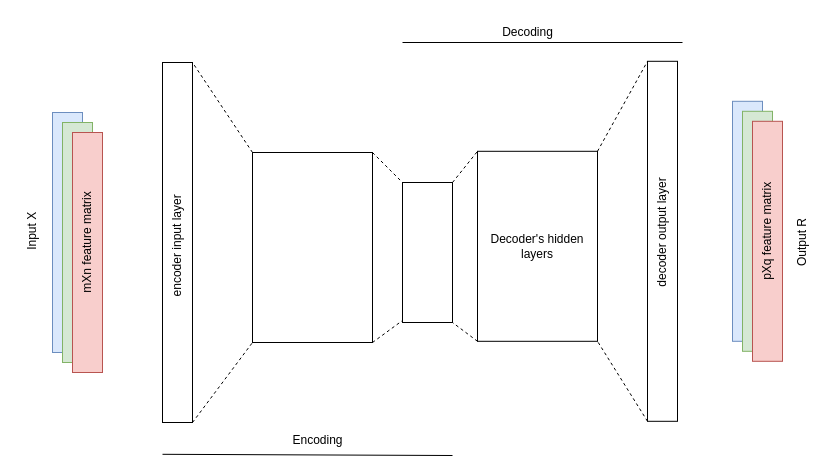
This 834x474 diagram has some shape labels left out. The shapes that lost their labels are listed below. From the top down, each one's centre as x and y in pixels, then its label:
At (x=312, y=247): "Encoder's hidden layers".
At (x=427, y=252): "Latent Representation (Z)".
